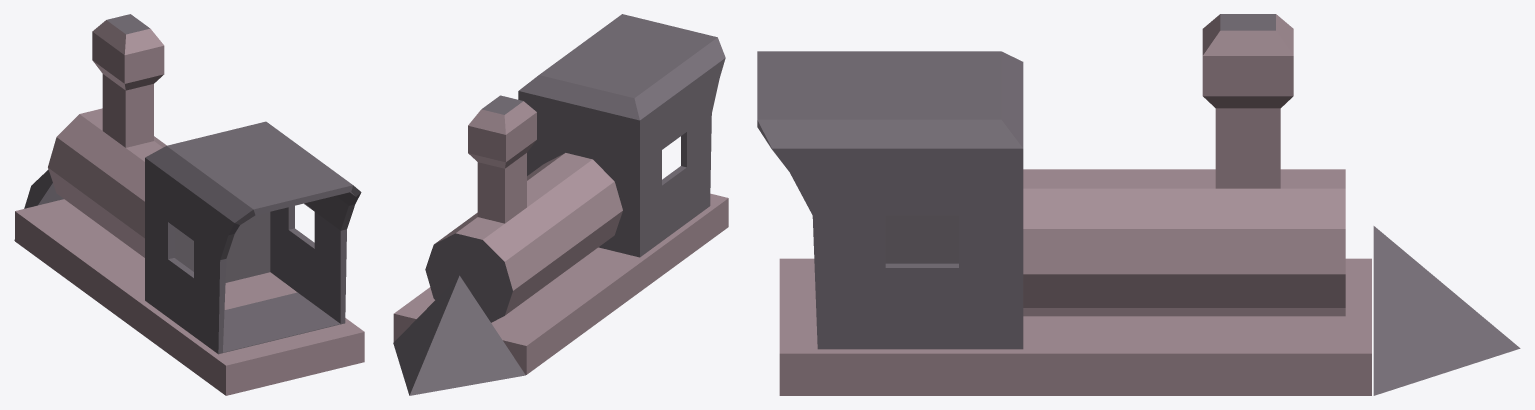
File: train.fbx
The picture shows the model from 3 angles, left to right: view 1: azimuth 30°, elevation 25°; view 2: azimuth 150°, elevation 25°; view 3: azimuth 270°, elevation 25°; orthographic projection. The views are drawn at different scales.
Visible parts, largest first — view 1: train; view 2: train; view 3: train.
Part boxes in pixels (x1=…): train: x1=14, y1=14, x2=364, y2=395; train: x1=393, y1=14, x2=728, y2=395; train: x1=757, y1=14, x2=1520, y2=395.
Bounding box in the file's own units: 28.55 × 45.77 × 97.08.
